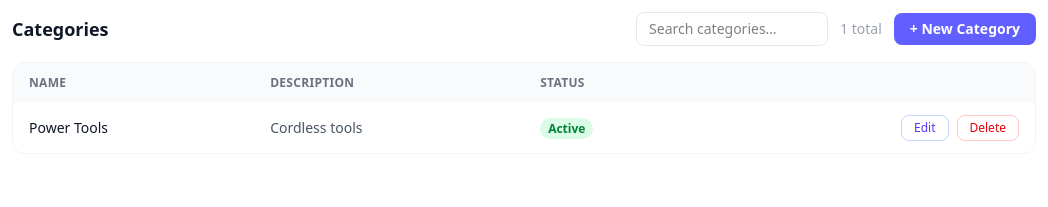
it: CategoriesTab › surfaces the backend message when delete is blocked by referencing products/subcategories
Check: the text "Power Tools" is shown, box [29, 118, 108, 137]
Step 1. Click the button "Delete" → (988,128), box [956, 115, 1019, 141]
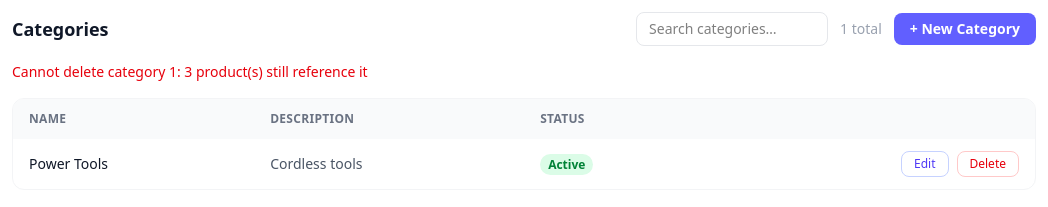
Check: the text "Power Tools" is shown, box [29, 154, 108, 173]
Check: the text "Cannot delete category 1: 3 product(s) still reference it" is shown, box [12, 62, 368, 81]
